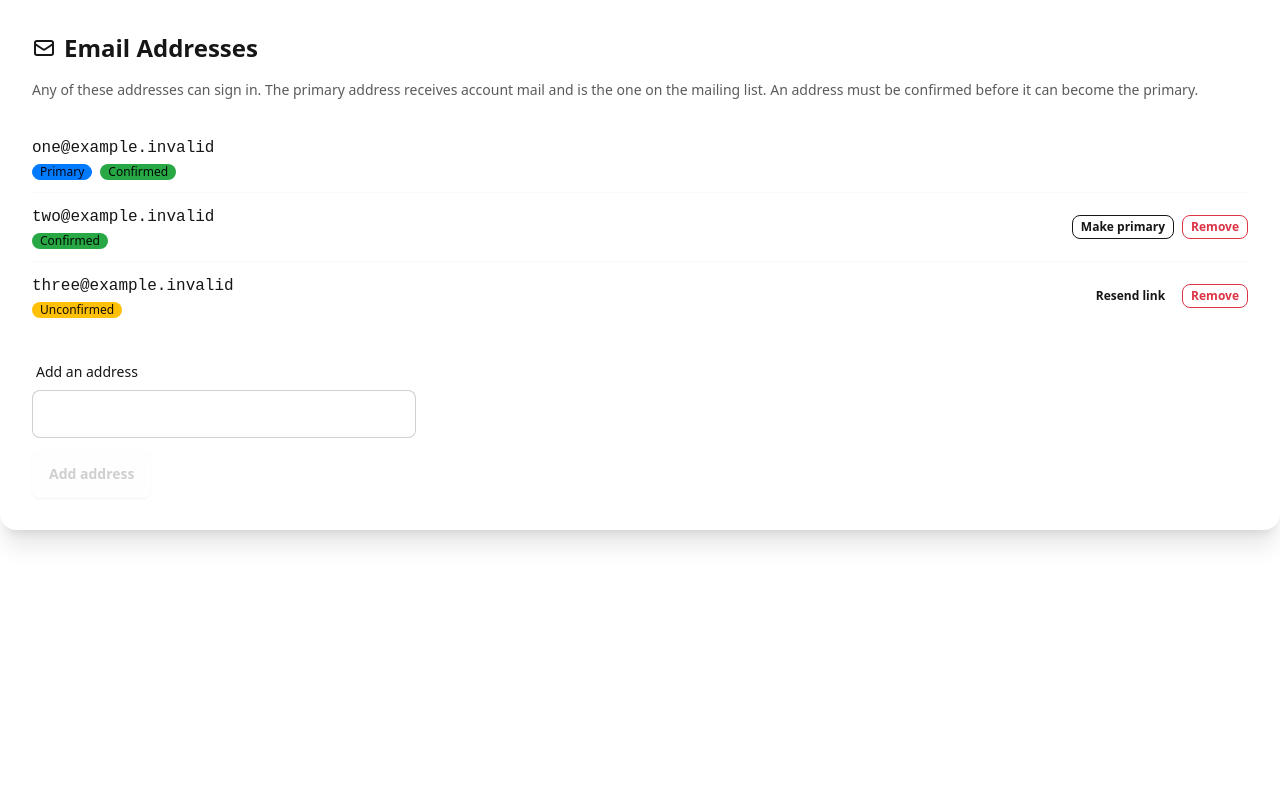
EmailAddressesCard › surfaces a refusal from the envelope rather than swallowing it
The width and height of the screenshot is (1280, 800).
Type "one@example.invalid" into the field at (224, 414), box [32,390,416,438]
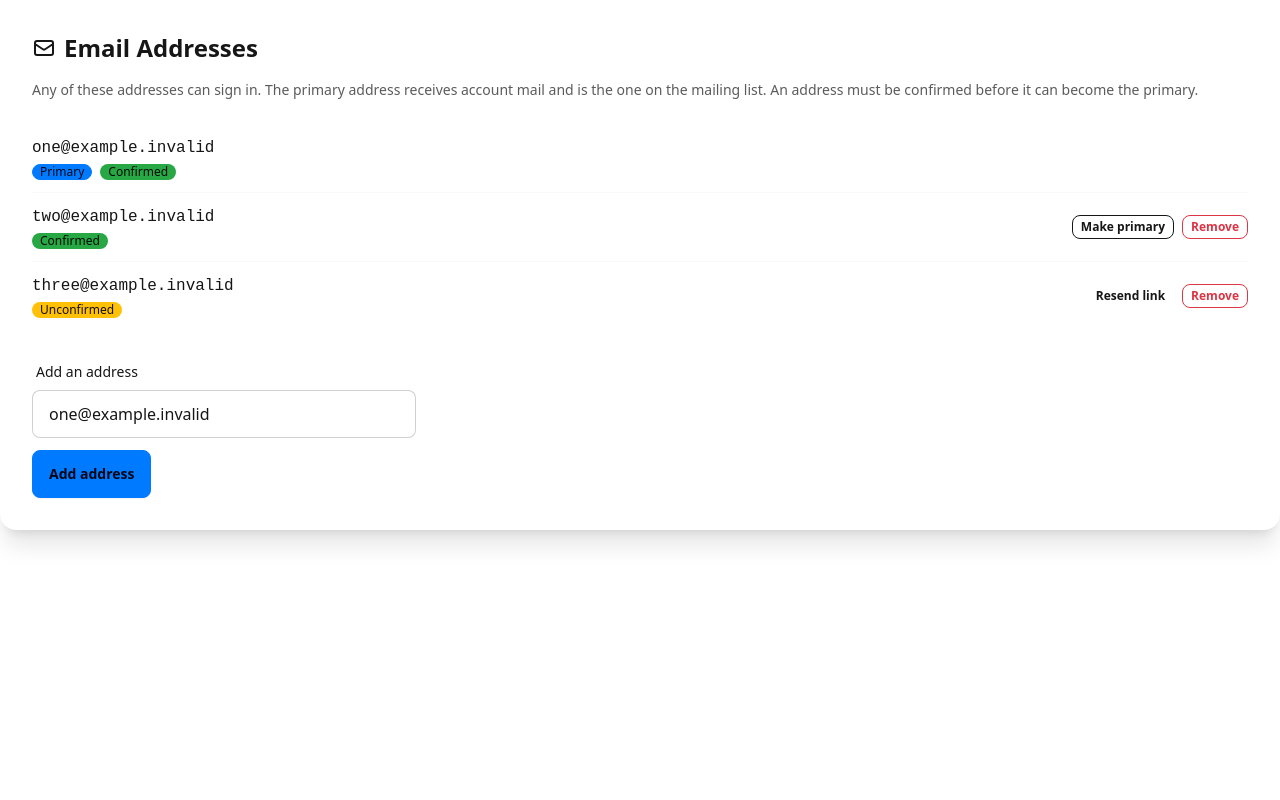
Submit the form, box [32,354,416,498]
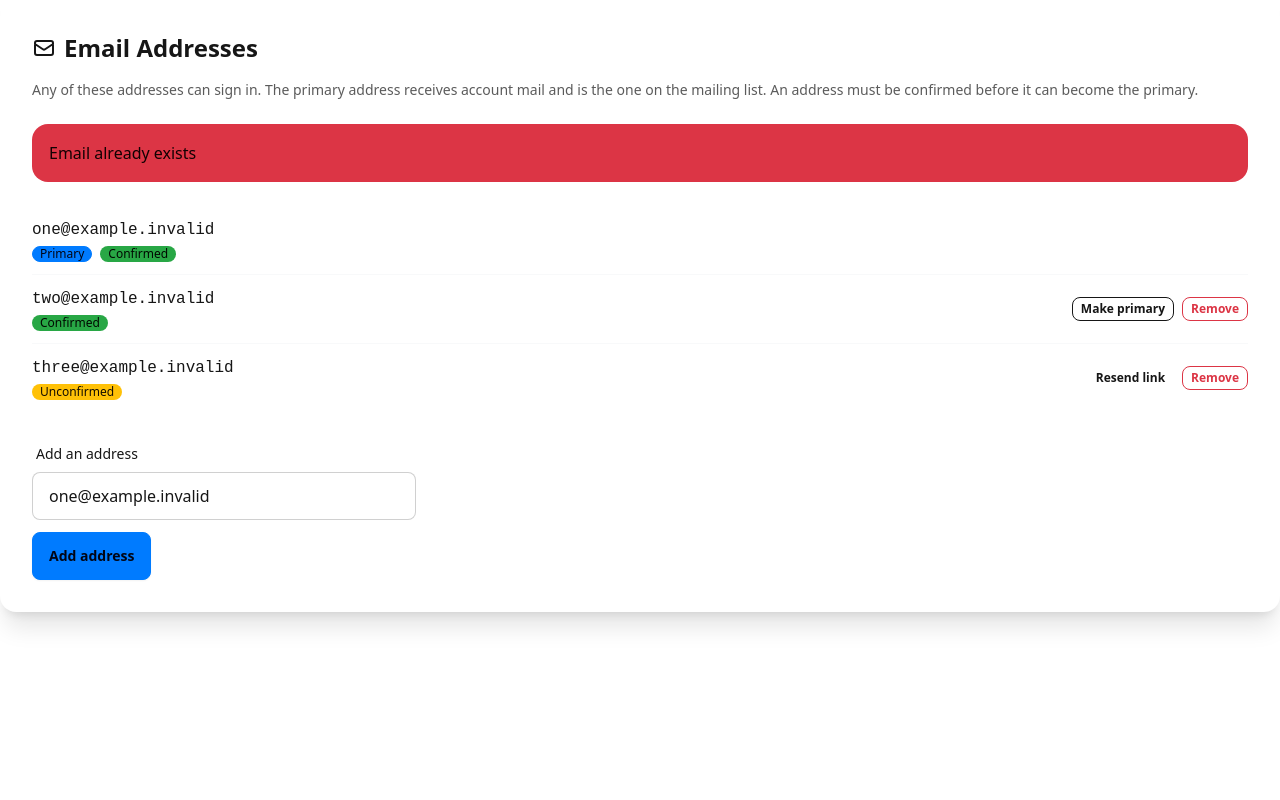
expect the message "Email already exists" is shown: met, box [32,124,1248,182]
